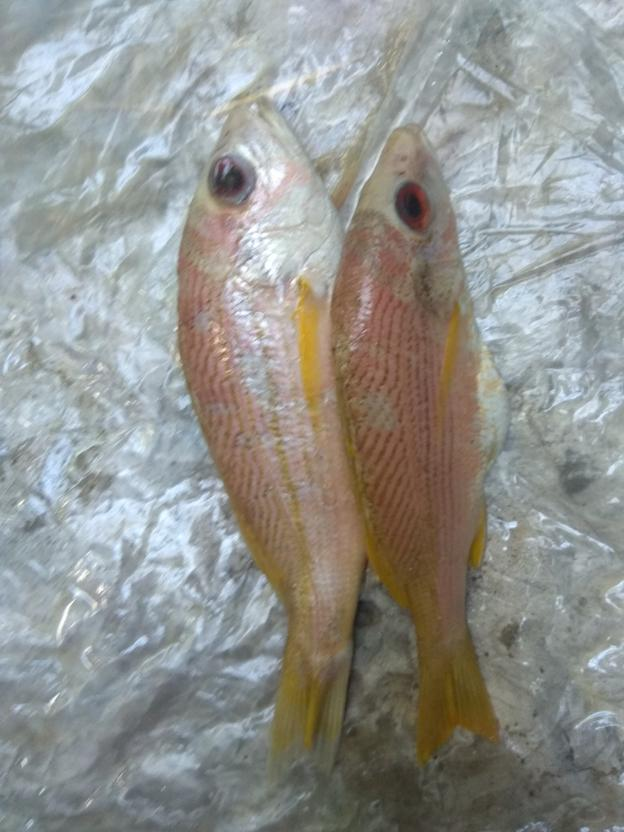Fish head: (180, 95, 340, 287), (354, 123, 468, 312)
Fish tail: (413, 625, 501, 772), (269, 635, 354, 774)
